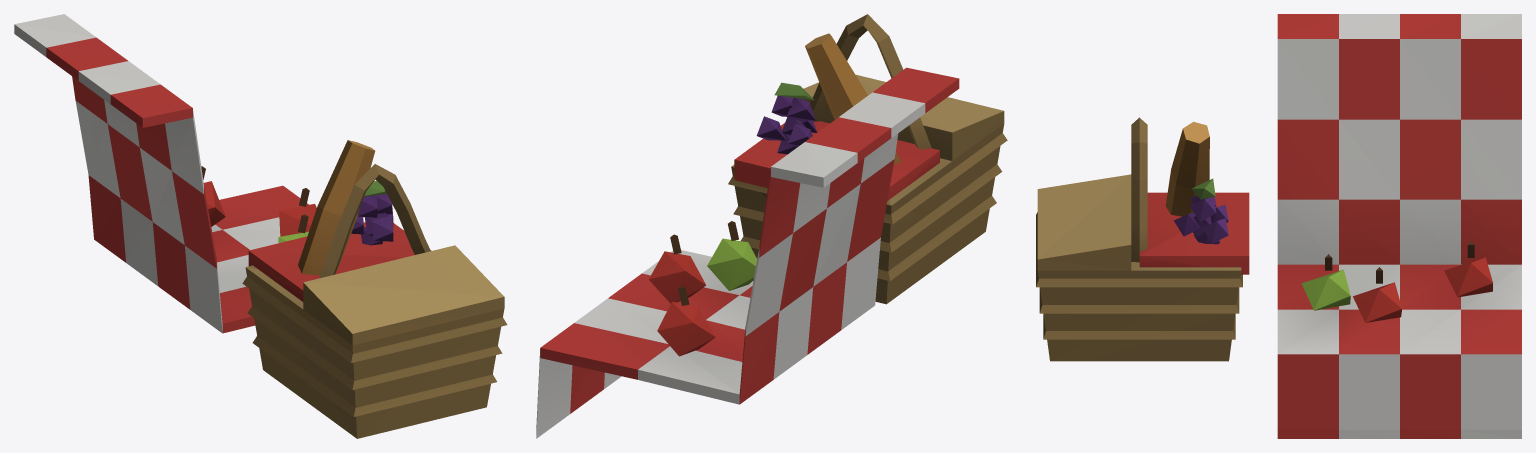
The model's file is gd_car_picnic.glb.
The picture shows the model from 3 angles, left to right: view 1: azimuth 30°, elevation 25°; view 2: azimuth 150°, elevation 25°; view 3: azimuth 270°, elevation 25°; orthographic projection. The views are drawn at different scales.
Visible parts, largest first — view 1: base; view 2: base; view 3: base.
Part boxes in pixels (<box>): base: <box>14,14,507,438</box>; base: <box>536,14,1007,438</box>; base: <box>1036,14,1521,438</box>.
Size of the model in its own units: 0.147 by 0.162 by 0.2388.
